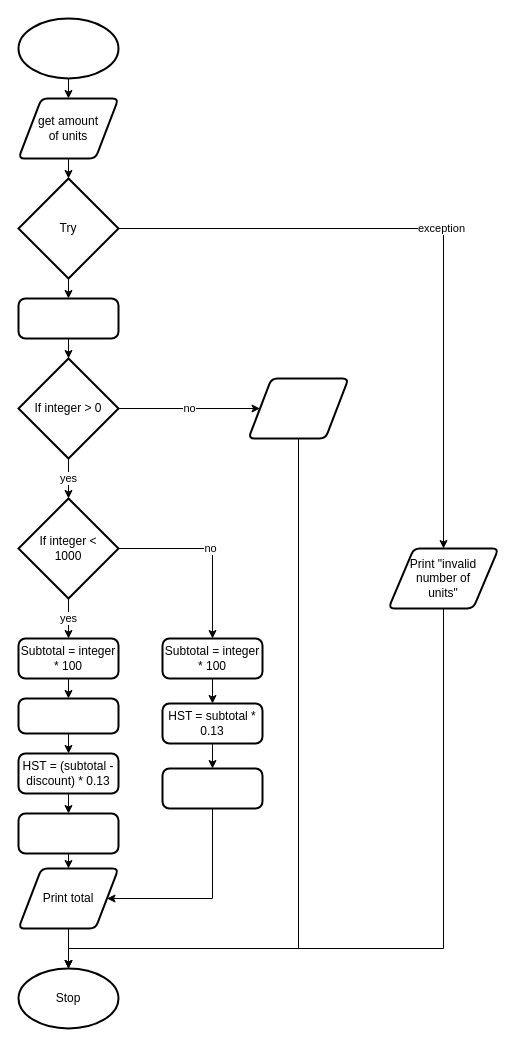
The diagram is 516 pixels wide and 1046 high, and some of its shapes have lost their labels. Here are the shapes that lost their labels. From the top down, the box of each, then its label:
(17, 17, 119, 79): Start
(17, 297, 119, 339): Convert number to integer
(247, 377, 349, 439): Print "invalid number of units
(17, 697, 119, 734): Discount = subtotal * 0.1
(161, 767, 263, 809): Total = subtotal + HST
(17, 812, 119, 854): Total = subtotal - discount + HST
